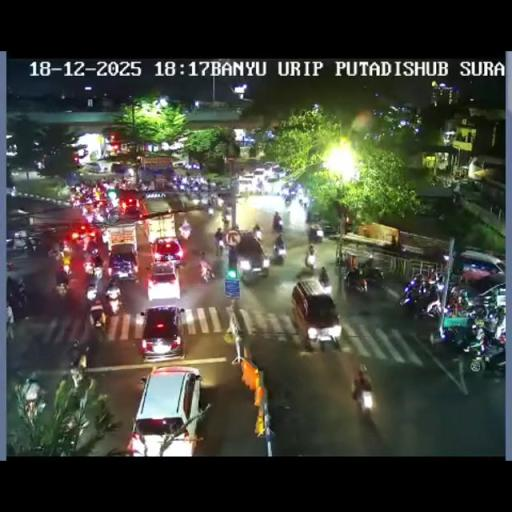Car: (126, 364, 202, 454), (290, 280, 341, 349), (138, 304, 186, 361), (455, 249, 506, 290), (231, 232, 268, 282), (146, 261, 182, 303), (108, 242, 139, 282), (151, 236, 185, 268), (68, 222, 97, 246), (119, 196, 143, 218), (252, 168, 269, 190), (110, 162, 132, 177), (82, 161, 109, 173), (238, 174, 254, 194), (215, 179, 233, 196), (268, 164, 287, 178), (171, 160, 188, 169)
Motorcycle: (398, 274, 444, 320), (464, 330, 504, 374), (437, 316, 476, 354), (69, 334, 93, 372), (446, 283, 476, 312), (352, 378, 374, 416), (22, 387, 44, 425), (6, 277, 28, 310), (343, 267, 367, 296), (54, 266, 70, 296), (104, 293, 122, 316), (271, 239, 286, 264), (93, 315, 108, 340), (200, 261, 217, 283), (307, 222, 324, 244), (485, 309, 499, 333), (24, 236, 42, 253), (358, 254, 374, 272), (102, 206, 120, 222), (227, 240, 238, 266), (6, 306, 14, 340), (320, 275, 332, 295), (86, 282, 98, 302), (118, 178, 138, 190), (346, 254, 358, 273), (47, 246, 63, 260), (305, 252, 316, 270), (92, 209, 105, 224), (214, 237, 224, 256), (92, 264, 103, 281), (179, 225, 191, 240), (184, 186, 196, 200), (452, 190, 462, 206), (198, 193, 210, 206), (101, 229, 110, 244), (273, 219, 282, 233), (215, 194, 224, 208), (284, 193, 293, 206), (222, 214, 230, 228), (178, 180, 188, 191), (71, 196, 82, 206), (253, 229, 262, 241), (6, 261, 18, 270), (206, 202, 214, 215), (301, 198, 307, 212), (140, 182, 148, 192), (308, 243, 314, 255)
